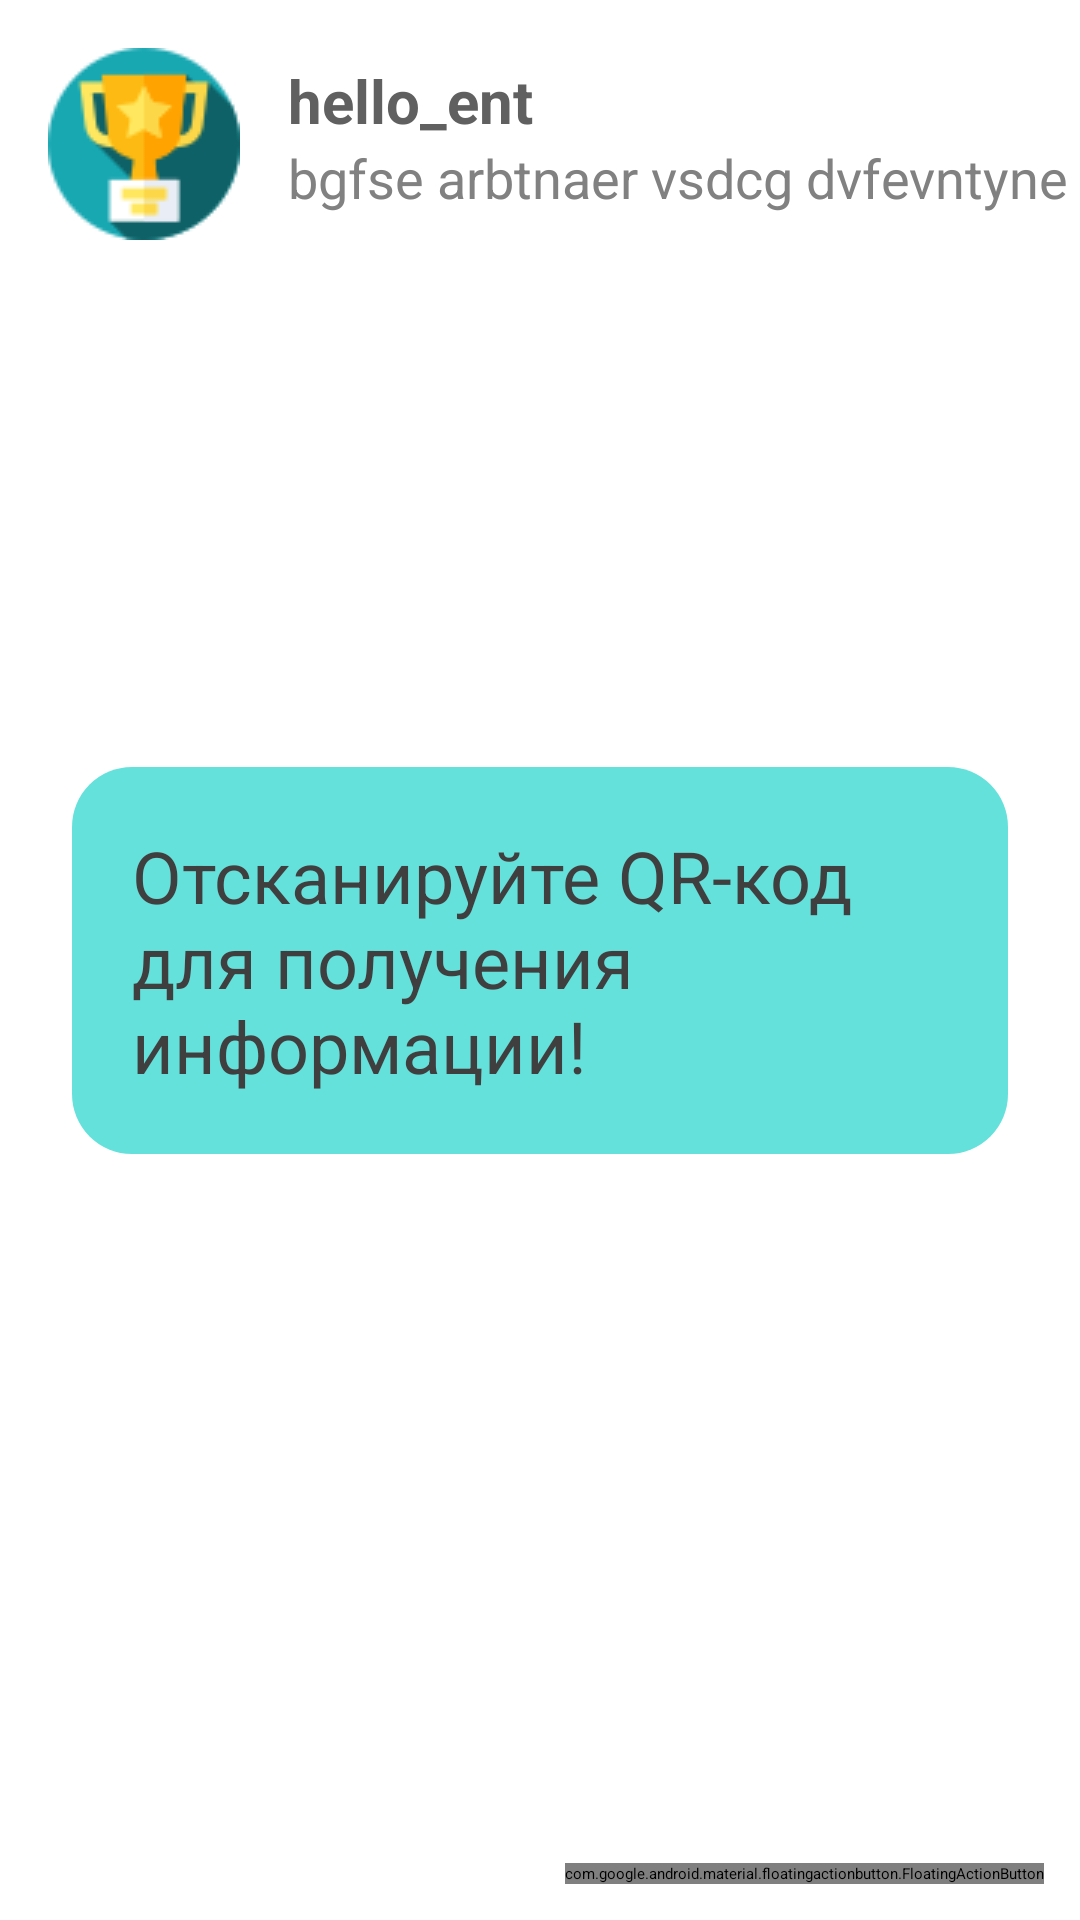

Icon click points for this 1080px x 1920px phone screenshot, format (x,y):
trophy gr: (144,144)
